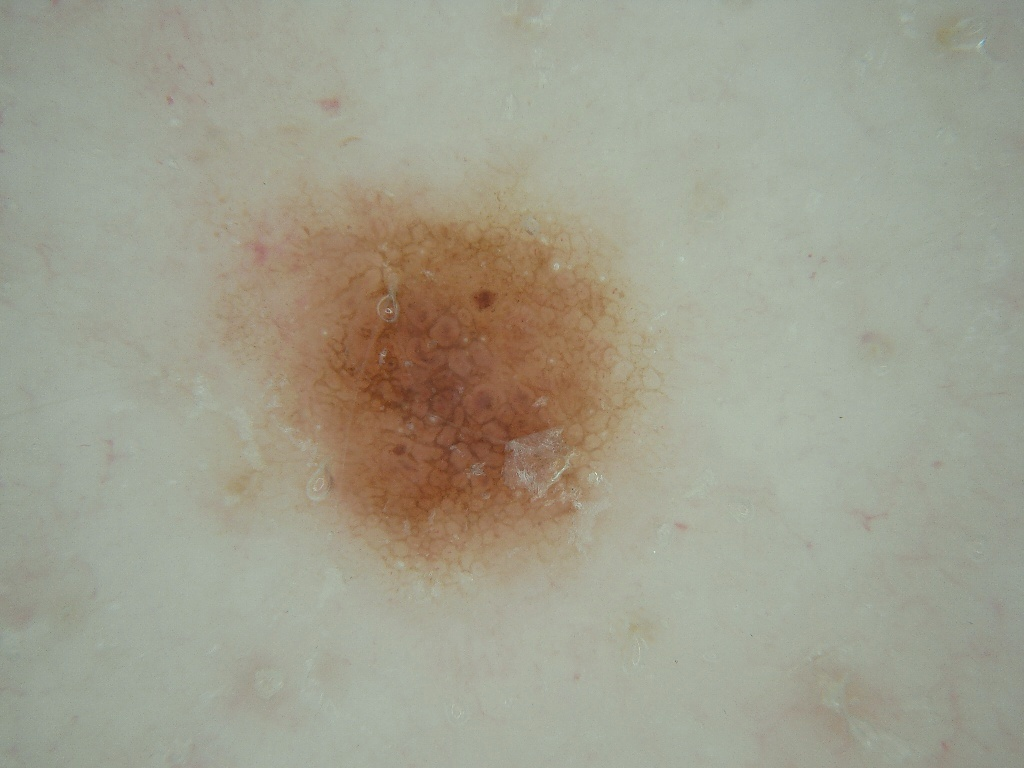Detected Lesion: (229, 191, 665, 576)
